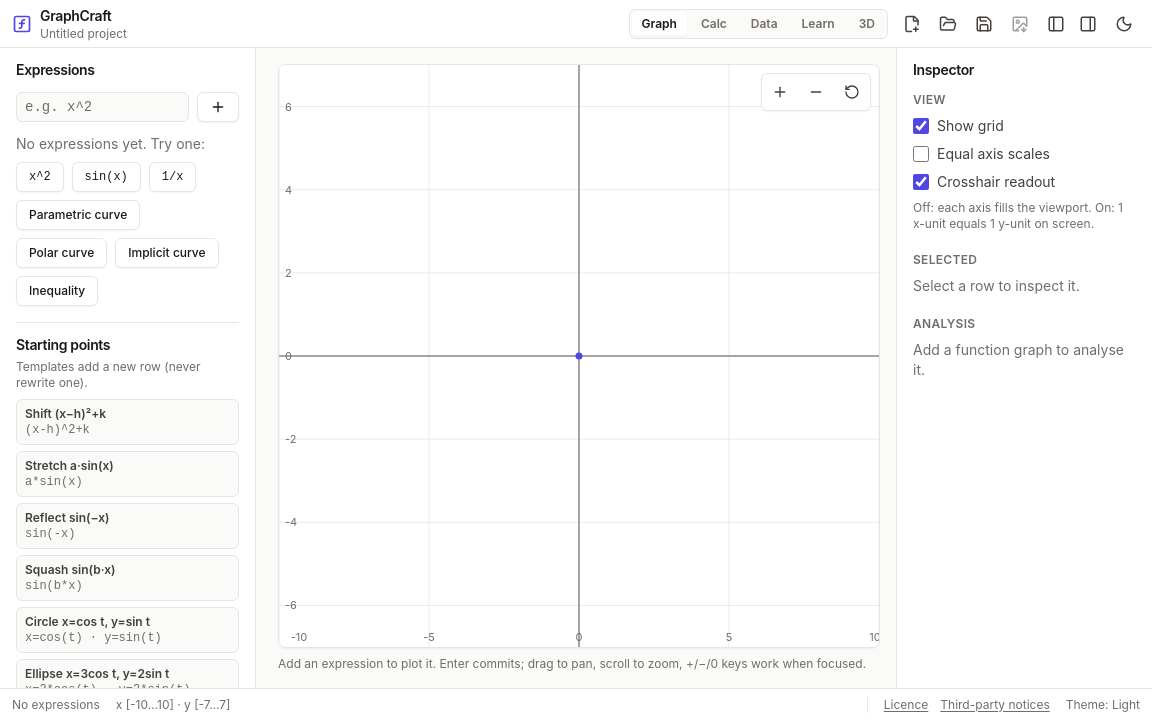
Scenario: data plot workflow › applies explicit axis bounds and resets to auto-fit
This screenshot has width=1152, height=720.
Click the button with aria-label "Show data lab": (764, 24) [741,12,788,36]
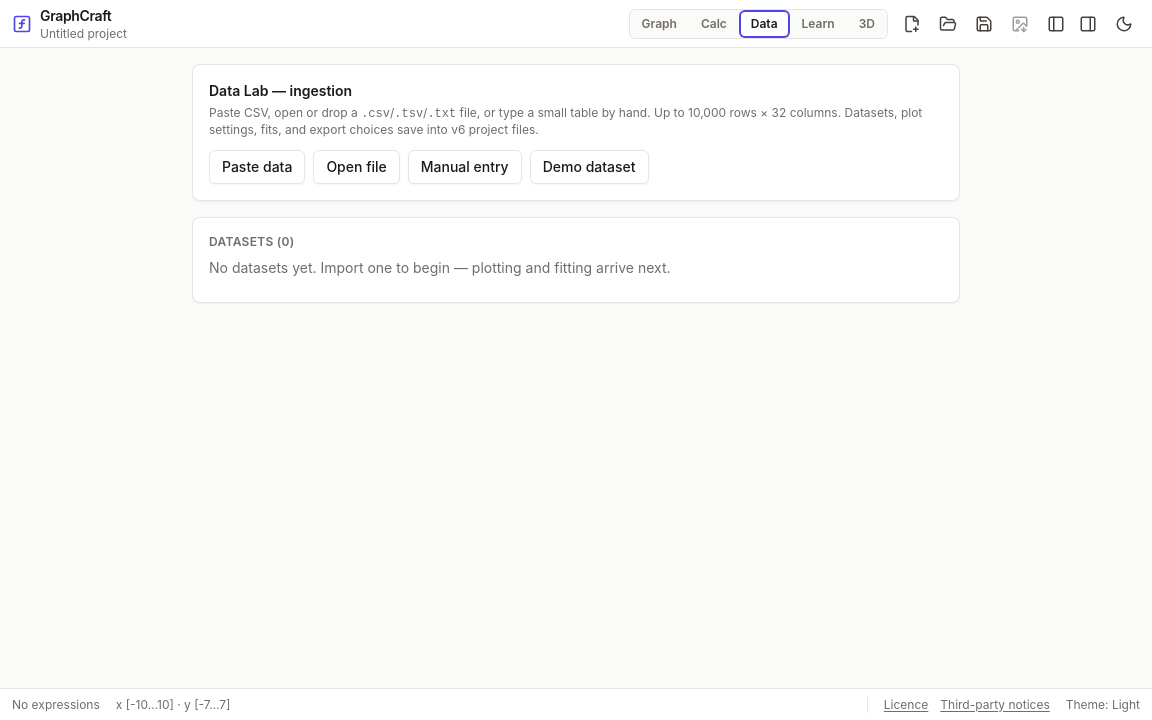
Check: the heading "Data Lab — ingestion" is shown, box [209,82,352,99]
Check: the button "Paste data" is shown, box [209,150,305,184]
Click the button "Demo dataset": (589, 167) [530,150,649,184]
(page scrolled)
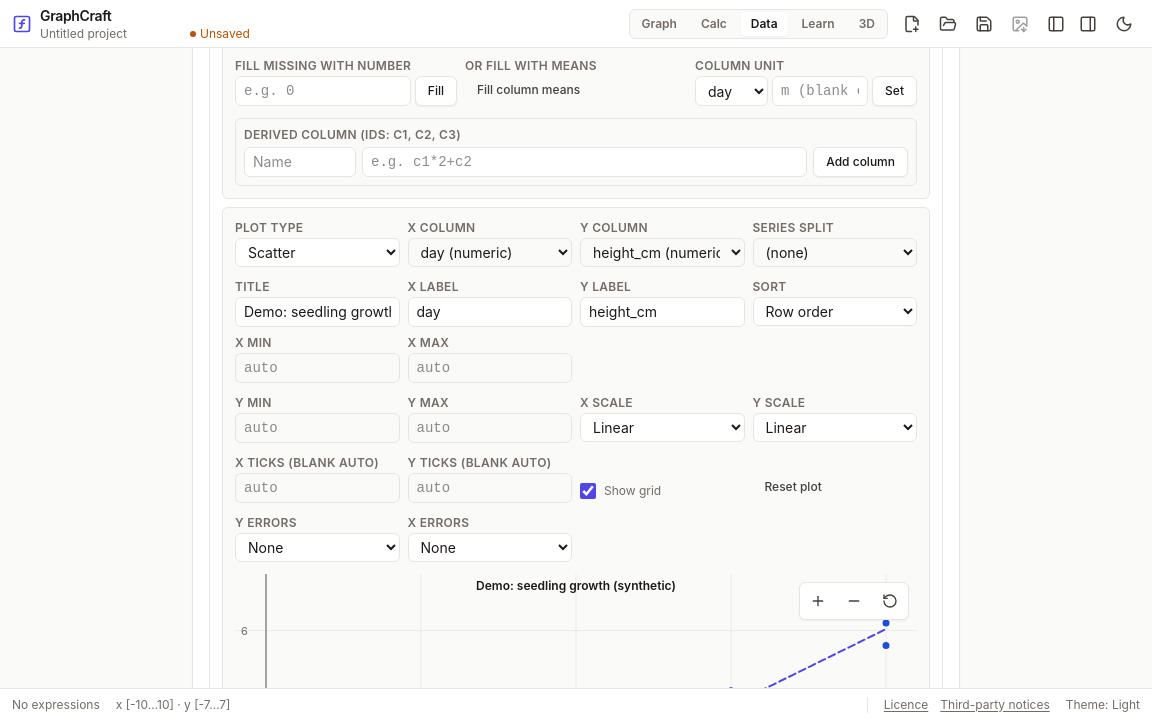
In the field labelled "X max": (490, 368) [408,353,572,383], type "100"
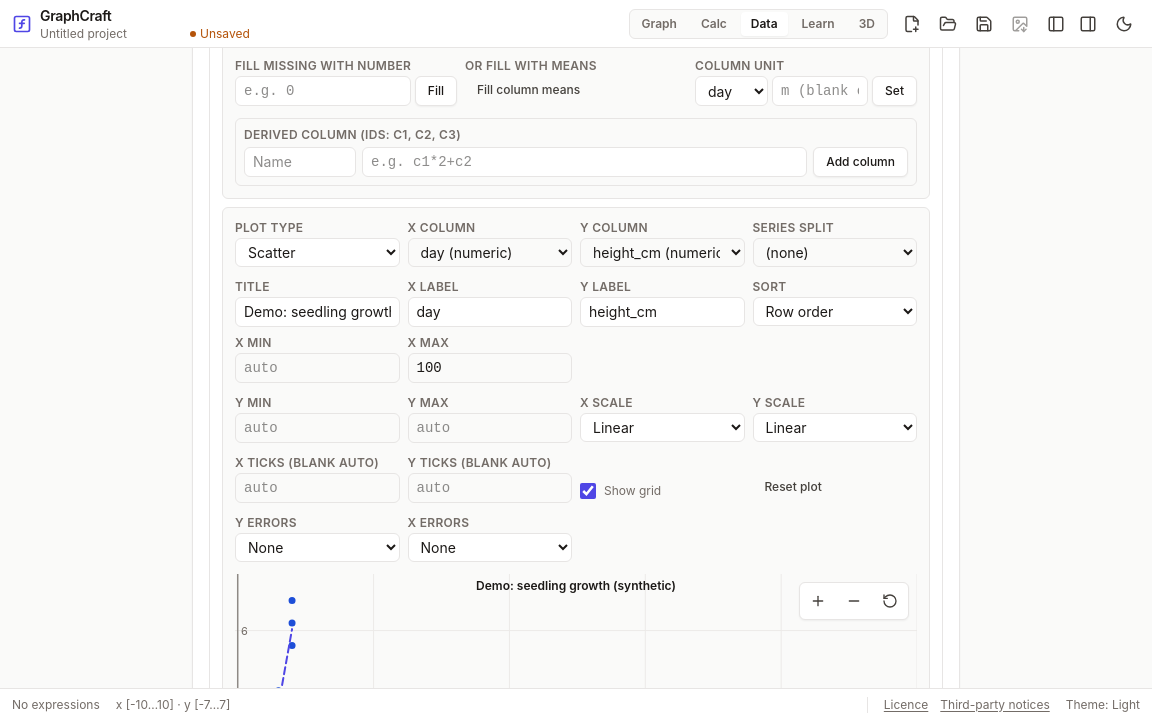
Click the button "Reset plot": (793, 487) [752,473,834,501]
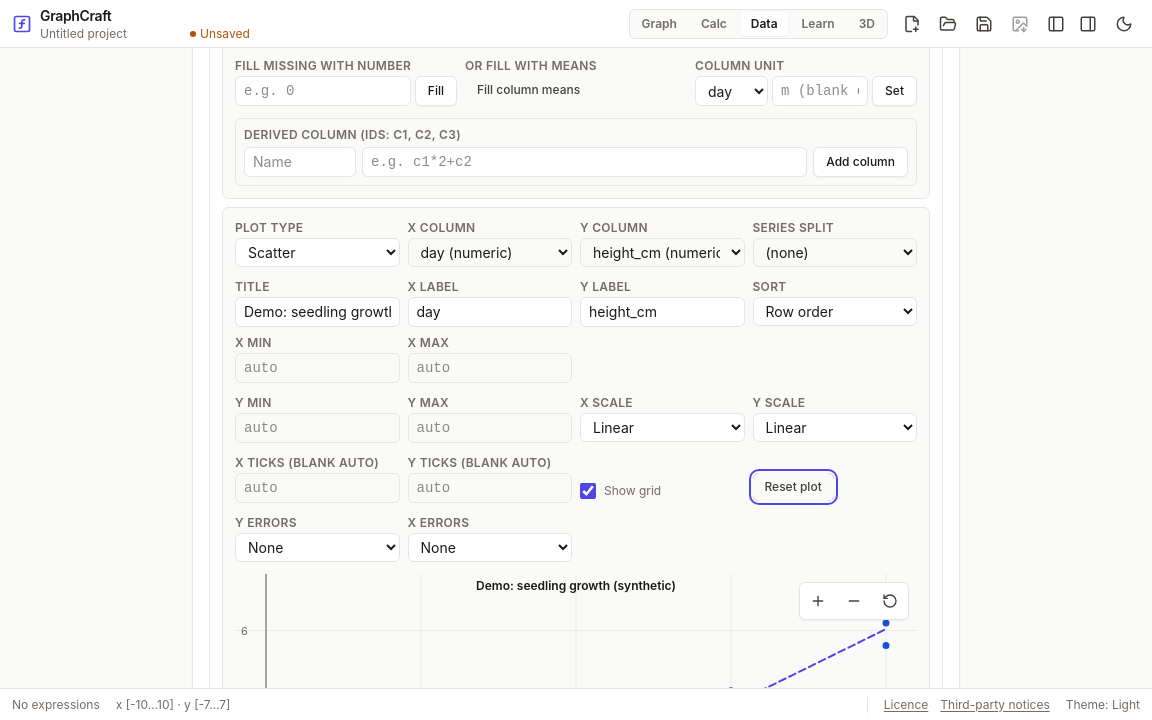
Check: the field labelled "X max" is empty, box [408,353,572,383]
